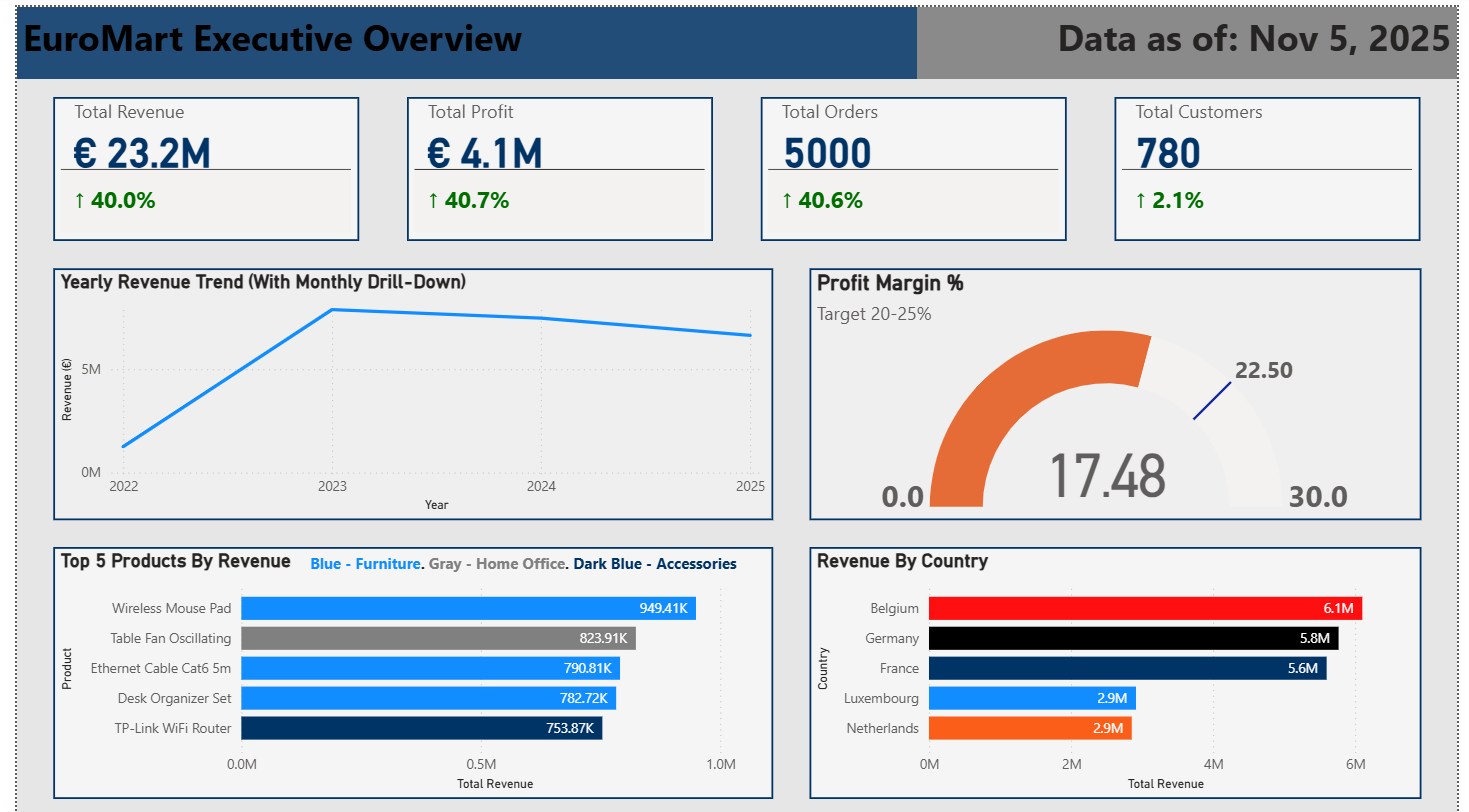

This screenshot's page, from the dashboard's own definition file:
{"tool":"powerbi","page":{"name":"Executive Overview","canvas":[1280,720],"ordinal":0},"visuals":[{"type":"textbox","box":[0,0,800,64],"z":0},{"type":"textbox","box":[800,0,480,64],"z":1000},{"type":"cardVisual","fields":{"Data":["fact_sales.Total Revenue"]},"box":[32,80,272,128],"z":2000},{"type":"cardVisual","fields":{"Data":["fact_sales.Total Profit"]},"box":[346.7,80,272,128],"z":3000},{"type":"cardVisual","fields":{"Data":["fact_sales.Total Orders"]},"box":[661.3,80,272,128],"z":4000},{"type":"cardVisual","fields":{"Data":["fact_sales.Total Customers"]},"box":[976,80,272,128],"z":5000},{"type":"lineChart","title":"Yearly Revenue Trend (With Monthly Drill-Down)","fields":{"Category":["dim_date.full_date.Variation.Date Hierarchy.Year","dim_date.full_date.Variation.Date Hierarchy.Month"],"Y":["fact_sales.Total Revenue"]},"box":[32,232,640,224],"z":6000},{"type":"gauge","title":"Profit Margin %","fields":{"Y":["fact_sales.Profit Margin %"],"TargetValue":["fact_sales.Target Profit Margin"]},"box":[704,232,544,224],"z":7000},{"type":"clusteredBarChart","title":"Top 5 Products By Revenue","fields":{"Category":["products.product_name"],"Y":["fact_sales.Total Revenue"]},"box":[32,480,640,224],"z":8000},{"type":"clusteredBarChart","title":"Revenue By Country","fields":{"Y":["fact_sales.Total Revenue"],"Category":["regions.country"]},"box":[704,480,544,224],"z":9000},{"type":"textbox","box":[256,480,400,32],"z":10000}]}

Visuals, with their boxes in screenshot pixels (x1, y1, x2, y2), scaled from the page's 1280x720 canvas onto the 1469x812 screenshot:
textbox: select_region(0, 0, 918, 72)
textbox: select_region(918, 0, 1468, 72)
cardVisual - fact_sales.Total Revenue: select_region(37, 90, 349, 235)
cardVisual - fact_sales.Total Profit: select_region(398, 90, 710, 235)
cardVisual - fact_sales.Total Orders: select_region(759, 90, 1071, 235)
cardVisual - fact_sales.Total Customers: select_region(1120, 90, 1432, 235)
"Yearly Revenue Trend (With Monthly Drill-Down)" lineChart: select_region(37, 262, 771, 514)
"Profit Margin %" gauge: select_region(808, 262, 1432, 514)
"Top 5 Products By Revenue" clusteredBarChart: select_region(37, 541, 771, 794)
"Revenue By Country" clusteredBarChart: select_region(808, 541, 1432, 794)
textbox: select_region(294, 541, 753, 577)
